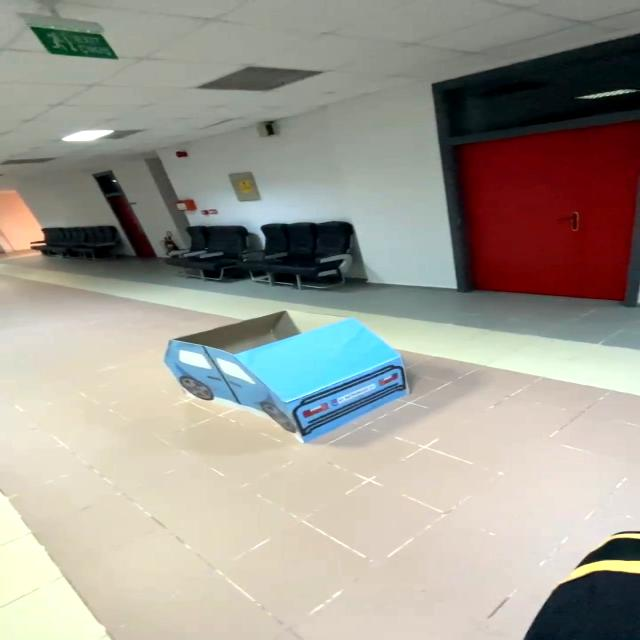blue_car: (148, 294, 445, 454)
